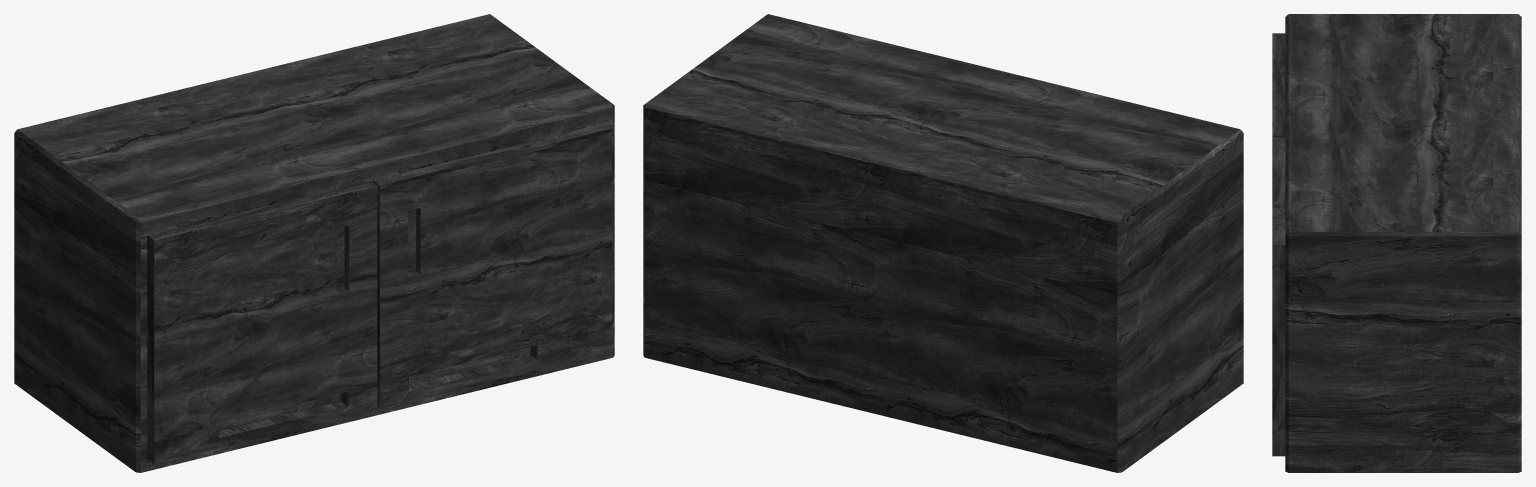
The model's file is cupboard_2.fbx.
The picture shows the model from 3 angles, left to right: view 1: azimuth 30°, elevation 25°; view 2: azimuth 150°, elevation 25°; view 3: azimuth 270°, elevation 25°; orthographic projection. The views are drawn at different scales.
Parts seen in each view (by area): view 1: cupboard_2; view 2: cupboard_2; view 3: cupboard_2.
Boxes of the visible parts, left/top/right/bottom form: cupboard_2: left=14, top=14, right=614, bottom=472; cupboard_2: left=643, top=14, right=1243, bottom=472; cupboard_2: left=1272, top=14, right=1521, bottom=472.
Size of the model in its own units: 2.11 by 1.07 by 1.01.
